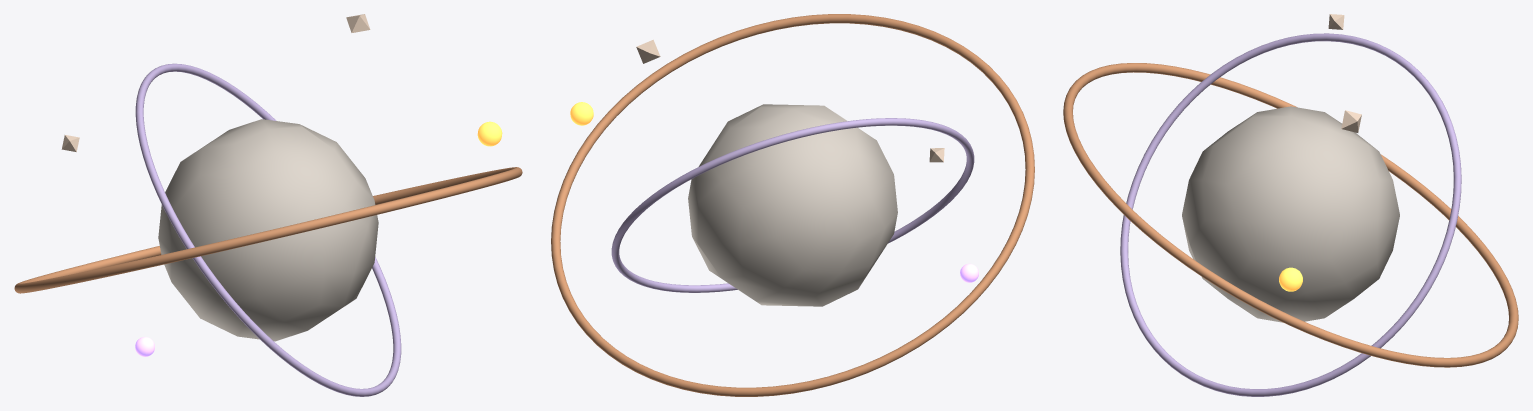
The model's file is quantum-orbital.glb.
The picture shows the model from 3 angles, left to right: view 1: azimuth 30°, elevation 25°; view 2: azimuth 150°, elevation 25°; view 3: azimuth 270°, elevation 25°; orthographic projection. The views are drawn at different scales.
Visible parts, largest first — view 1: Core, RingOuter, RingInner, TechNode1; view 2: Core, RingOuter, RingInner, TechNode1; view 3: Core, RingOuter, RingInner, TechNode1.
Part boxes in pixels (left/top/right/bottom): Core: left=158, top=119, right=378, bottom=341; RingOuter: left=14, top=167, right=522, bottom=293; RingInner: left=135, top=63, right=401, bottom=396; TechNode1: left=477, top=121, right=502, bottom=146; Core: left=688, top=104, right=897, bottom=306; RingOuter: left=551, top=14, right=1034, bottom=396; RingInner: left=611, top=118, right=974, bottom=292; TechNode1: left=570, top=102, right=593, bottom=125; Core: left=1182, top=106, right=1399, bottom=322; RingOuter: left=1063, top=63, right=1518, bottom=367; RingInner: left=1120, top=33, right=1461, bottom=396; TechNode1: left=1279, top=267, right=1302, bottom=291.
Size of the model in its own units: 3.41 by 2.15 by 3.
